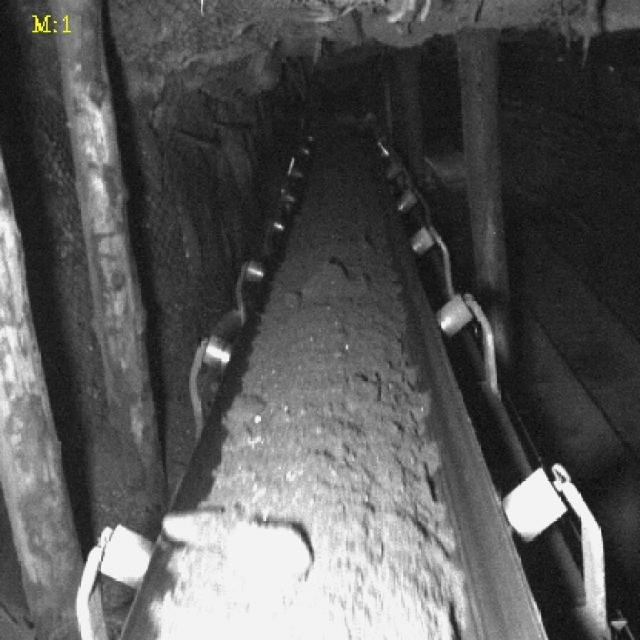large_sized_coal: (166, 512, 314, 571), (304, 263, 370, 300), (224, 392, 262, 425)
